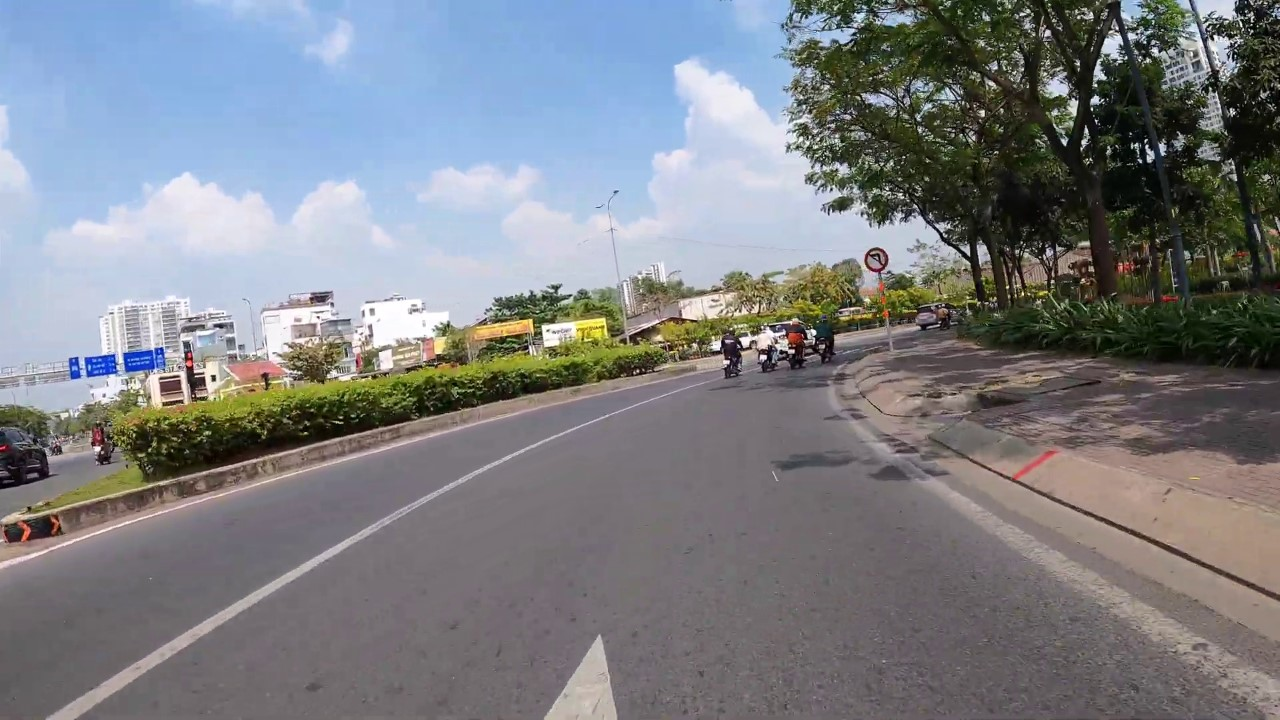cam_re_trai: (864, 247, 889, 273)
